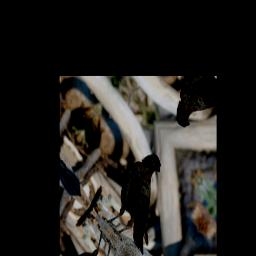Crow: (97, 138, 185, 256)
